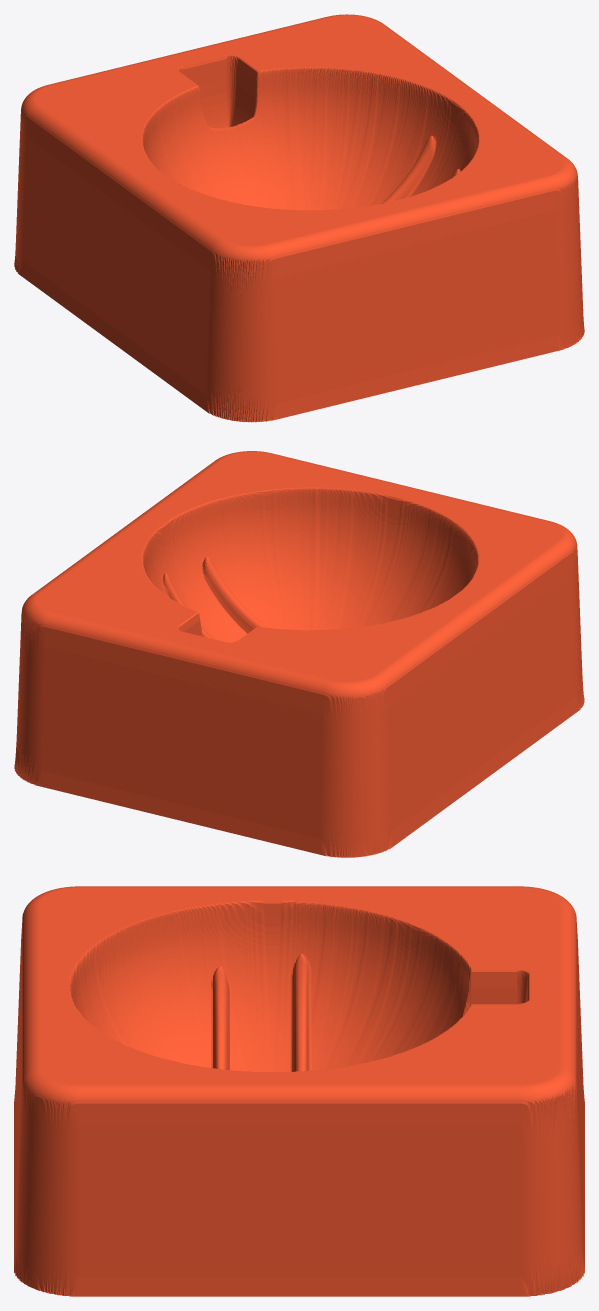
The model's file is mold.glb.
3 renders of one model, top to bottom at view 1: azimuth 30°, elevation 25°; view 2: azimuth 150°, elevation 25°; view 3: azimuth 270°, elevation 25°, orthographic. The views are drawn at different scales.
Visible parts, largest first — view 1: geometry_0; view 2: geometry_0; view 3: geometry_0.
Boxes of the visible parts, <box> form: geometry_0: <box>14,14,584,422</box>; geometry_0: <box>14,451,584,857</box>; geometry_0: <box>14,886,584,1296</box>.
Size of the model in its own units: 0.0722 by 0.031 by 0.0798.
